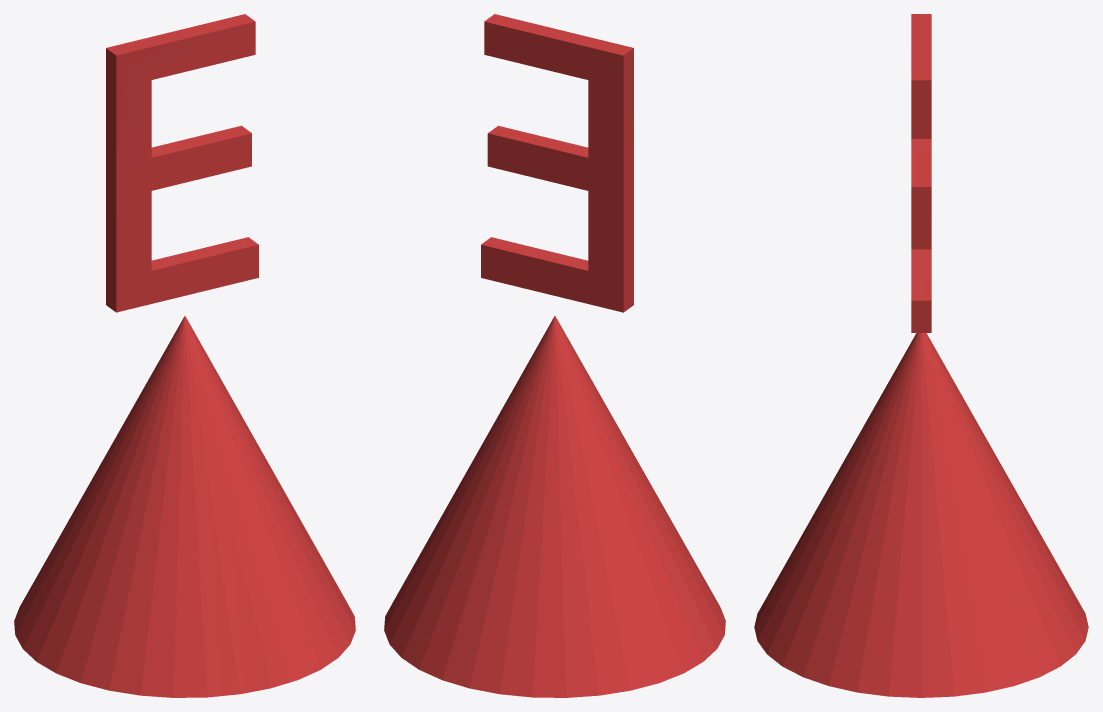
The model's file is EPoint.glb.
3 renders of one model, left to right at view 1: azimuth 30°, elevation 25°; view 2: azimuth 150°, elevation 25°; view 3: azimuth 270°, elevation 25°, orthographic. The views are drawn at different scales.
Parts seen in each view (by area): view 1: EndPoint; view 2: EndPoint; view 3: EndPoint.
Boxes of the visible parts, x1,y1,x2,y2 form: EndPoint: [14, 14, 355, 697]; EndPoint: [384, 14, 725, 697]; EndPoint: [754, 14, 1088, 697].
Size of the model in its own units: 0.5 by 0.9535 by 0.5.
